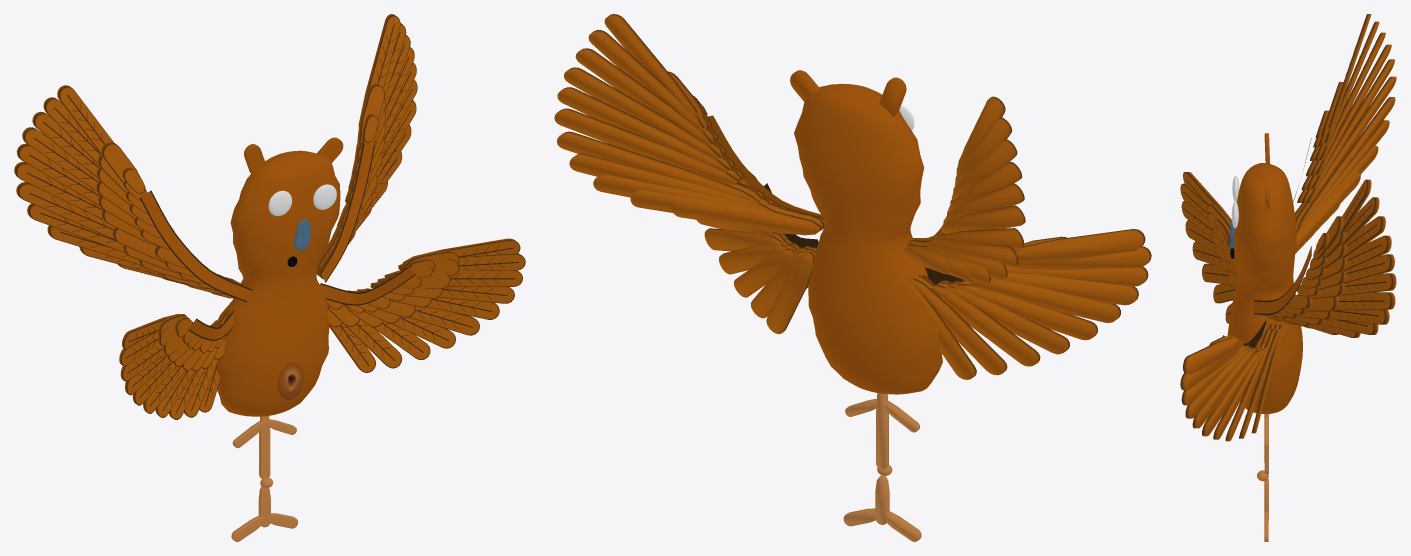
File: owl.glb
The picture shows the model from 3 angles, left to right: view 1: azimuth 30°, elevation 25°; view 2: azimuth 150°, elevation 25°; view 3: azimuth 270°, elevation 25°; orthographic projection. The views are drawn at different scales.
Visible parts, largest first — view 1: Owl_Game; view 2: Owl_Game; view 3: Owl_Game.
Boxes of the visible parts, x1,y1,x2,y2 form: Owl_Game: (14, 14, 525, 541); Owl_Game: (554, 14, 1151, 541); Owl_Game: (1180, 14, 1396, 541).
Bounding box in the file's own units: 5.82 × 6.14 × 2.72.
